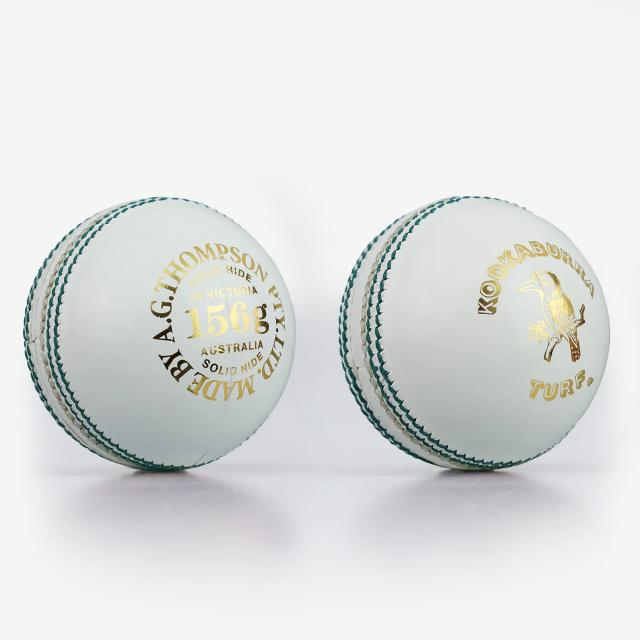ball: (22, 195, 297, 471), (338, 194, 610, 471)
